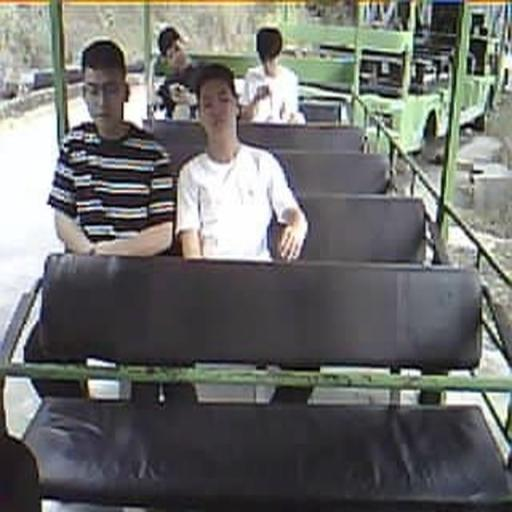persona: (46, 38, 176, 257), (174, 62, 309, 262), (240, 26, 306, 125), (146, 28, 204, 120)
